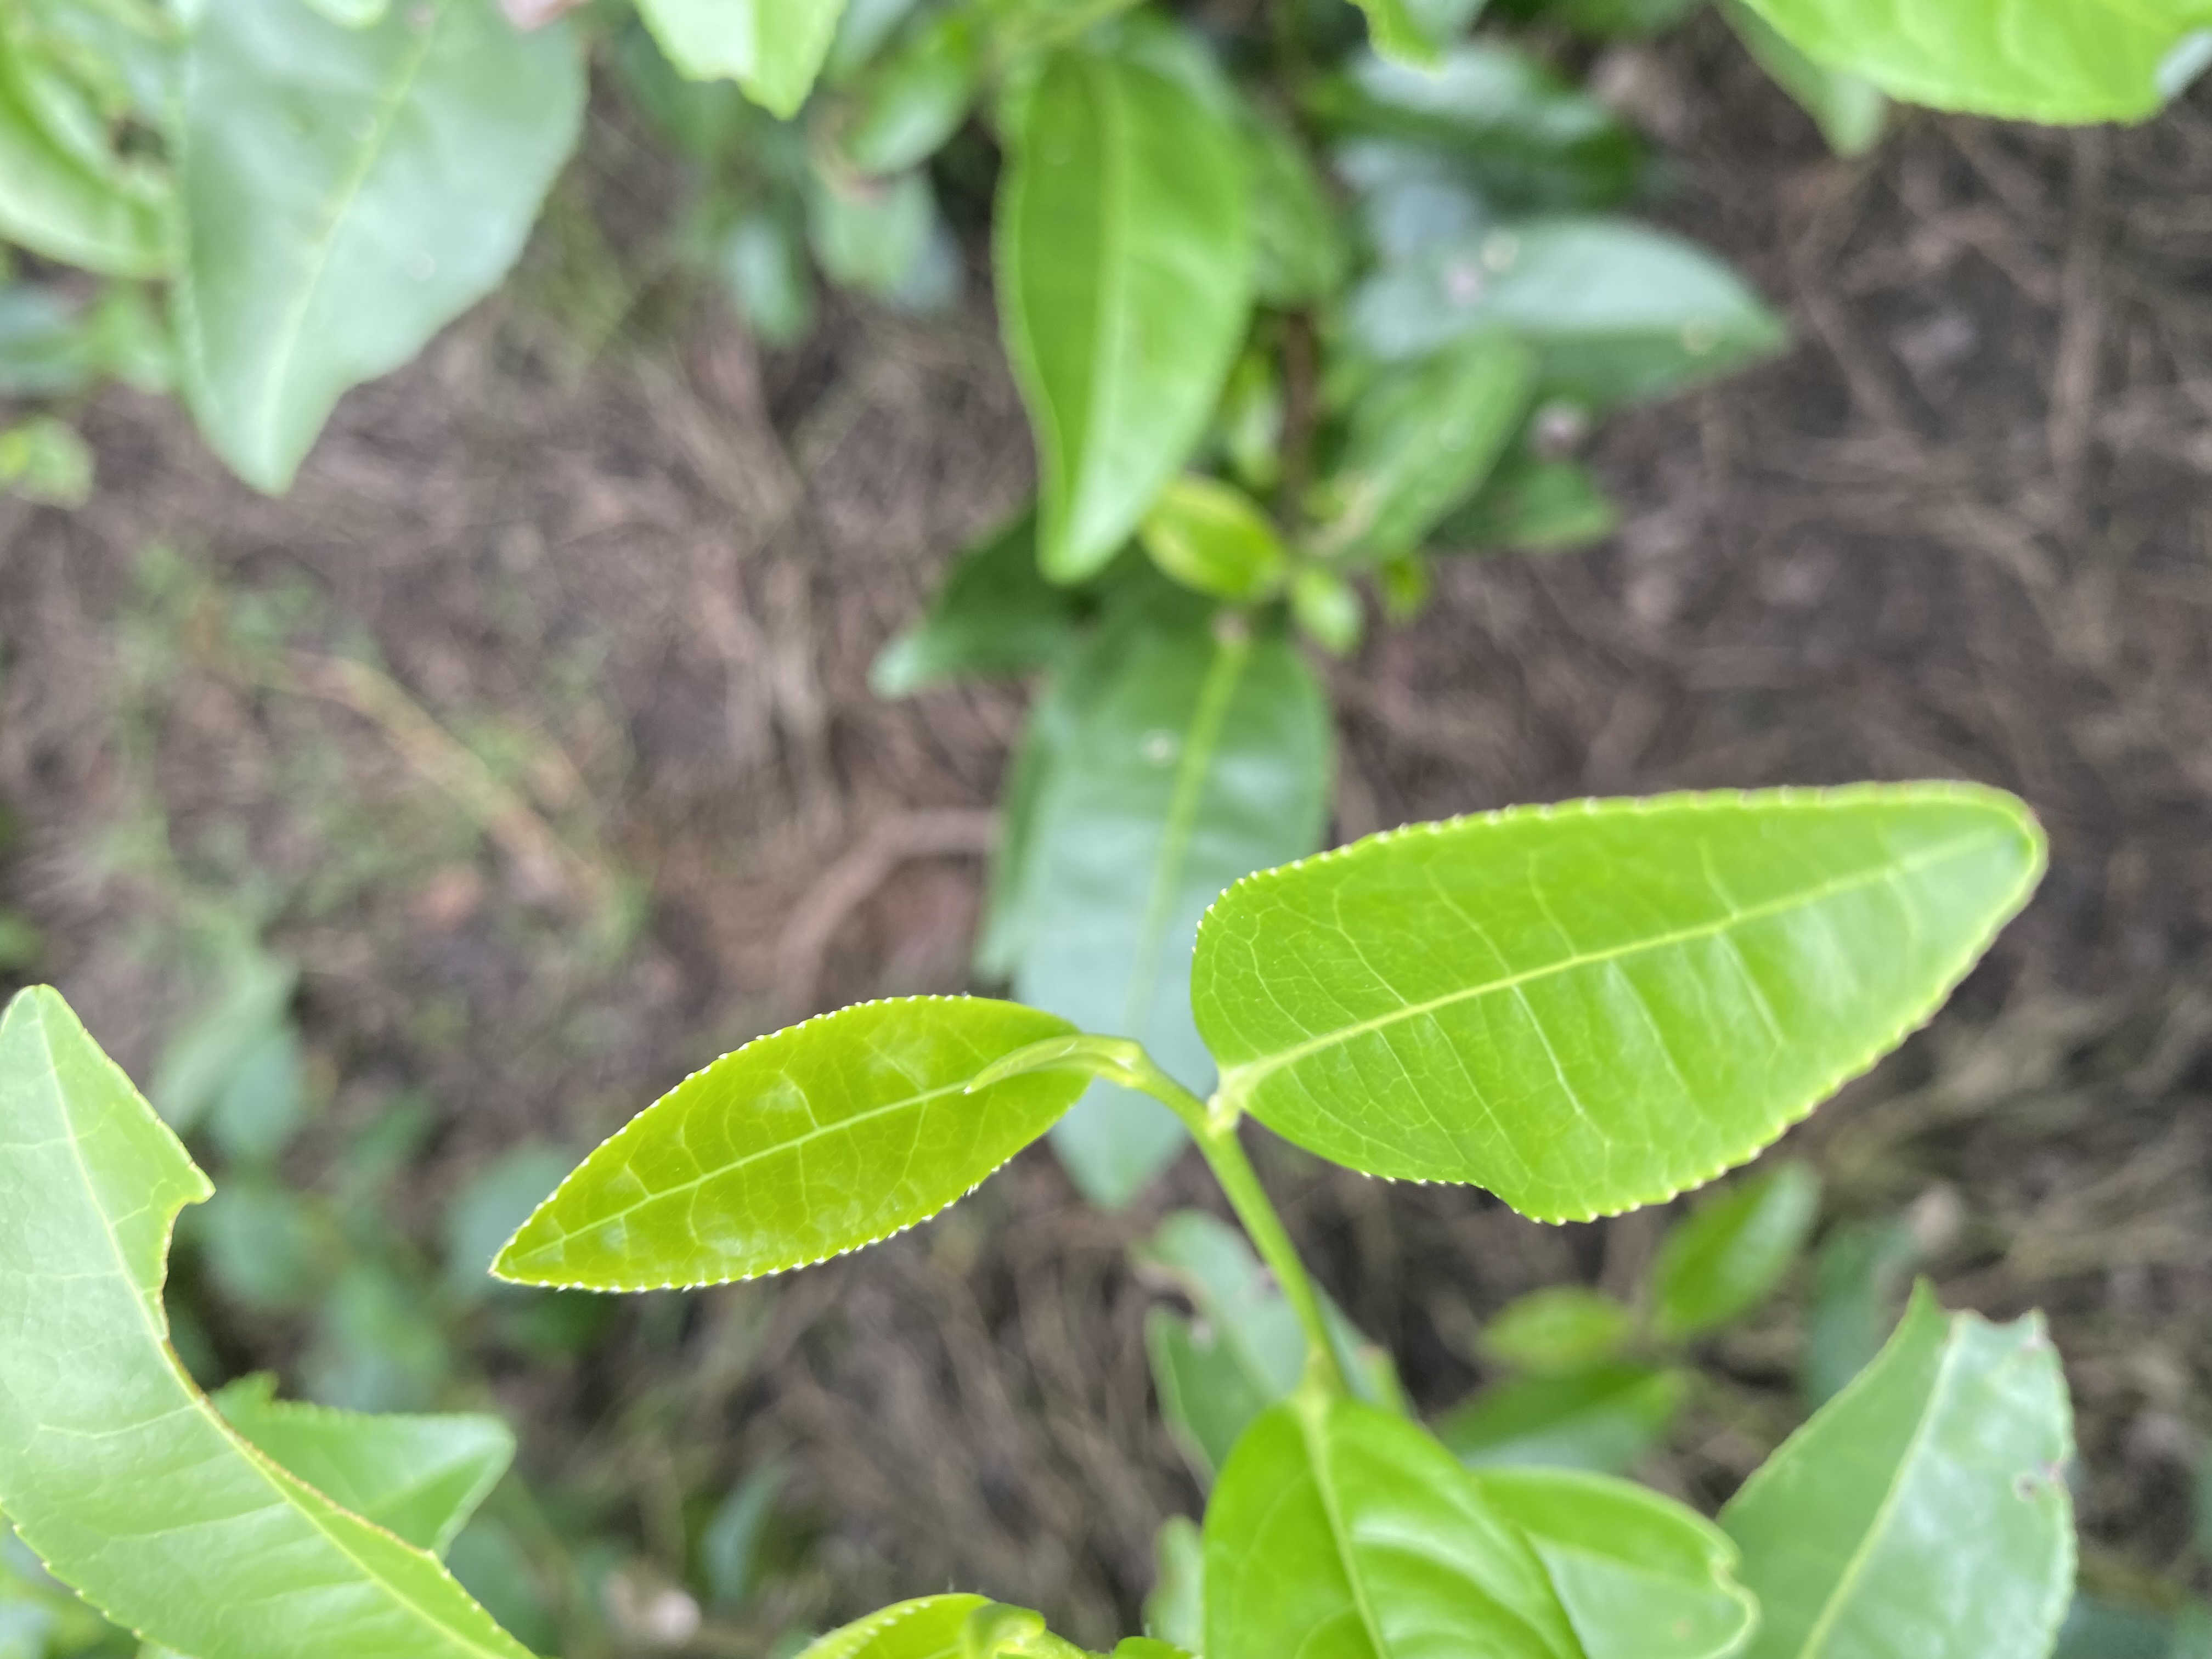chihuo_low: (3, 983, 535, 1657), (1714, 1274, 2083, 1656)
healthy: (1188, 777, 2045, 1234), (489, 988, 1090, 1300)
